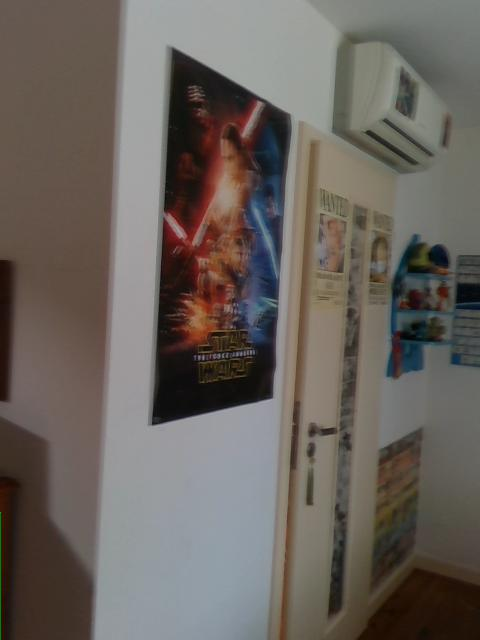door: (270, 121, 398, 639)
